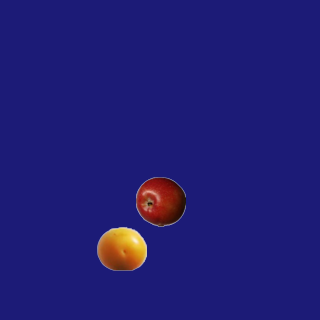Apple Braeburn: (135, 176, 185, 226)
Cherry Wax Yellow: (96, 223, 146, 273)
